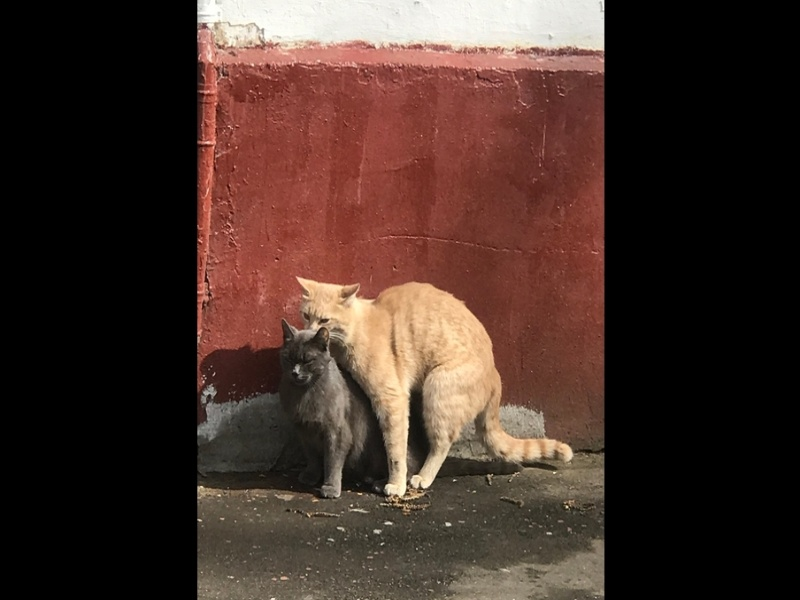cat: (293, 276, 578, 493), (273, 314, 447, 499)
